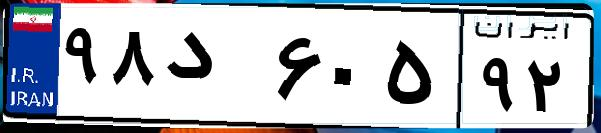0: (330, 28, 385, 110)
2: (525, 38, 570, 115)
5: (385, 28, 445, 110)
6: (270, 28, 330, 110)
8: (110, 28, 158, 98)
9: (57, 26, 110, 100), (475, 38, 525, 113)
د: (158, 20, 270, 120)
